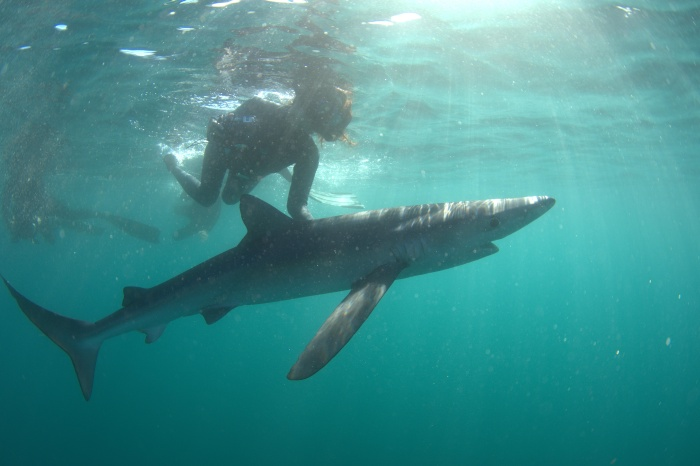Azul: (1, 164, 578, 426)
